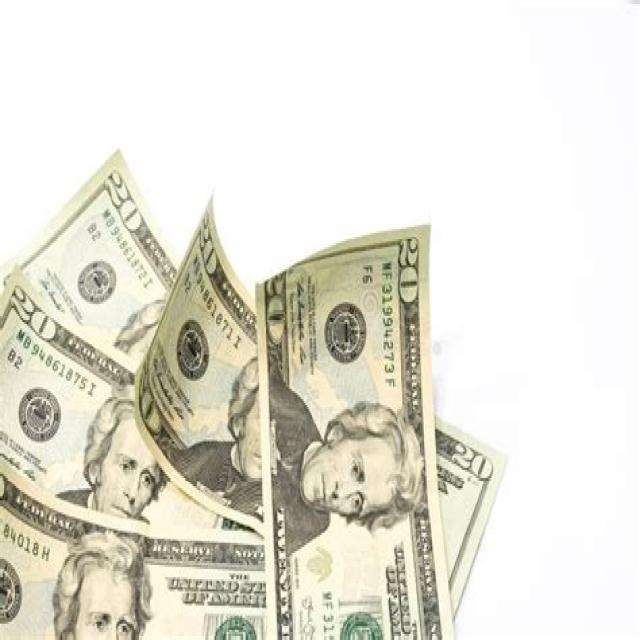Twenty: (257, 222, 458, 640), (0, 256, 267, 537), (0, 451, 268, 640)
